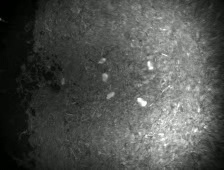corn: (135, 96, 149, 108), (145, 59, 156, 72), (99, 71, 110, 84), (96, 55, 108, 65), (104, 90, 116, 100), (58, 76, 67, 86)
